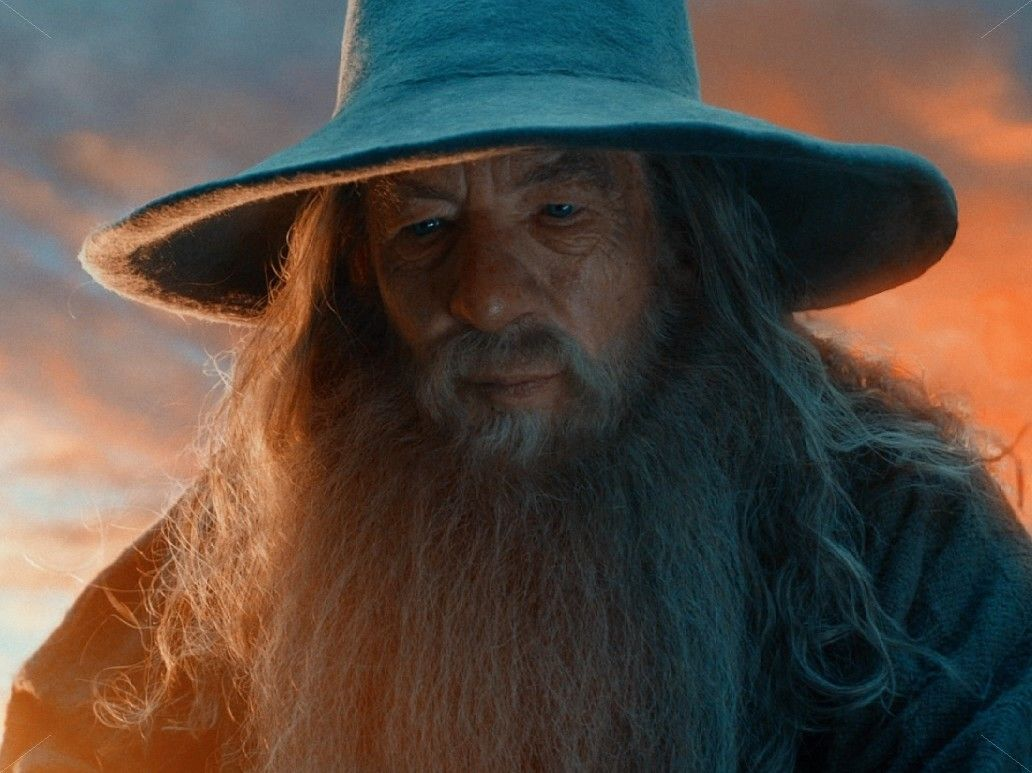gandalf grey: (28, 12, 1014, 761)
